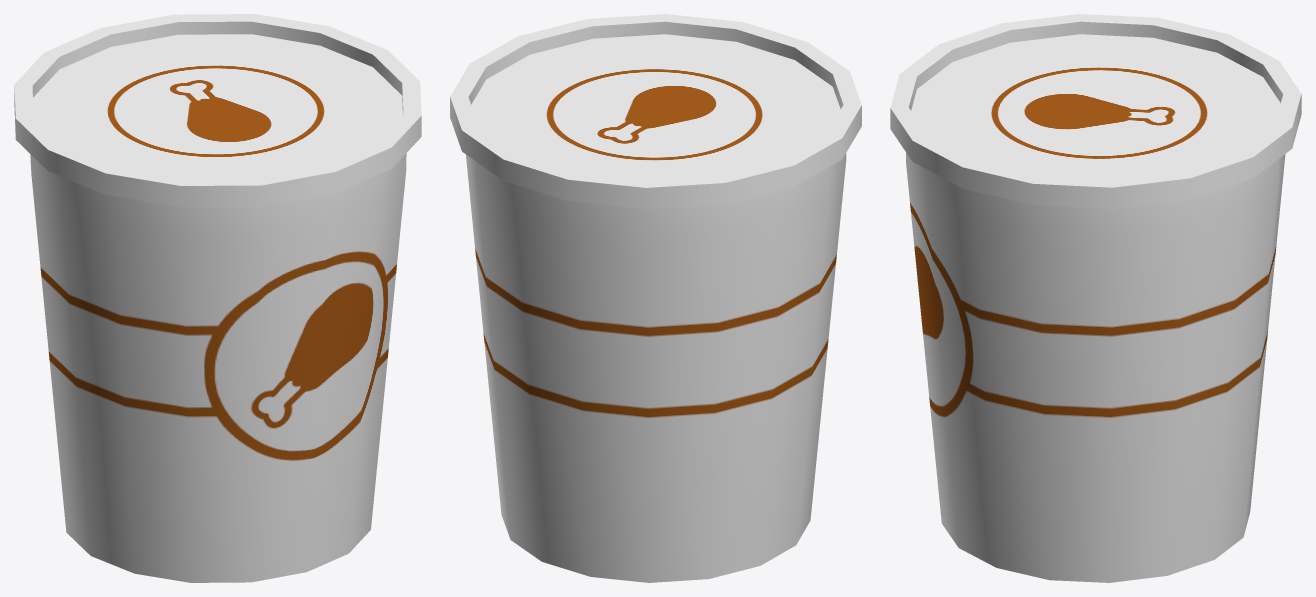
File: Chicken Wings.FBX
3 renders of one model, left to right at view 1: azimuth 30°, elevation 25°; view 2: azimuth 150°, elevation 25°; view 3: azimuth 270°, elevation 25°, orthographic.
Visible parts, largest first — view 1: chicken wings bucket, chicken wings bucket top; view 2: chicken wings bucket, chicken wings bucket top; view 3: chicken wings bucket, chicken wings bucket top.
Part boxes in pixels (x1,y1,x2,y2): chicken wings bucket: (30, 153, 406, 582); chicken wings bucket top: (14, 14, 421, 207); chicken wings bucket: (466, 153, 846, 582); chicken wings bucket top: (450, 14, 861, 209); chicken wings bucket: (906, 152, 1285, 582); chicken wings bucket top: (890, 14, 1301, 208).
Size of the model in its own units: 0.1645 by 0.1841 by 0.1645.
